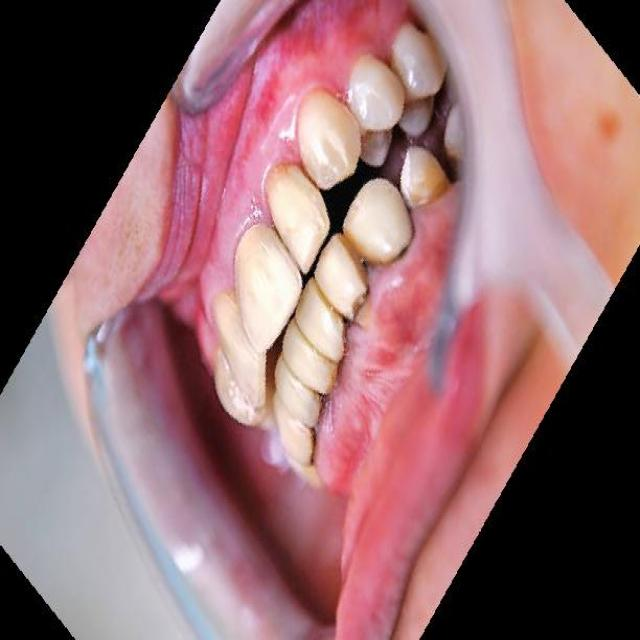caries: (348, 278, 378, 332), (330, 320, 358, 369), (302, 426, 325, 468), (313, 390, 332, 424)
